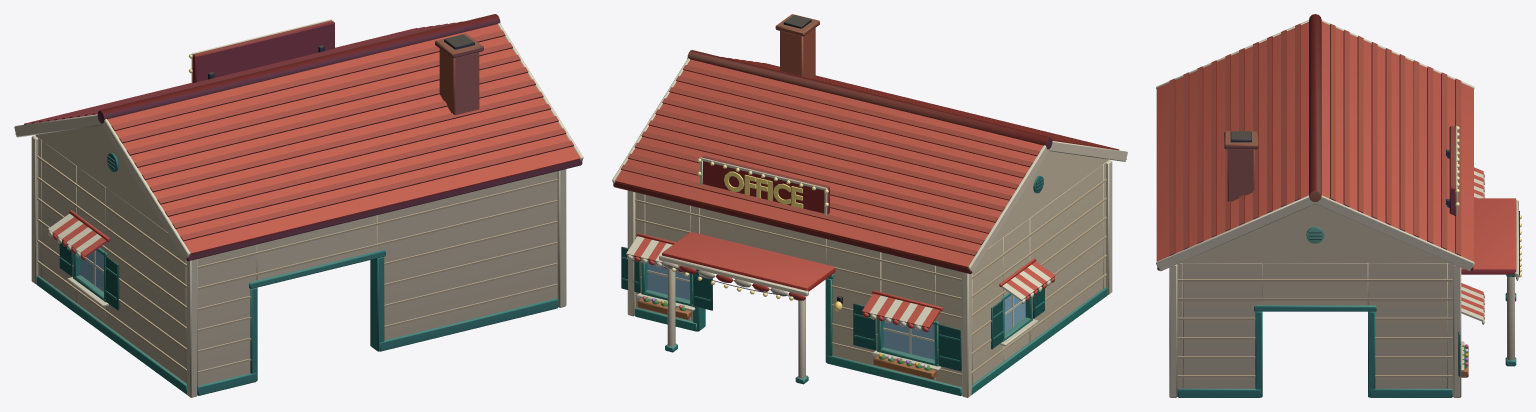
Rendered from Office.fbx.
The picture shows the model from 3 angles, left to right: view 1: azimuth 30°, elevation 25°; view 2: azimuth 150°, elevation 25°; view 3: azimuth 270°, elevation 25°; orthographic projection. The views are drawn at different scales.
Parts seen in each view (by area): view 1: SM_Bld_Office_Roof, SM_Bld_Office_Walls, SM_Bld_Office_Trim, SM_Bld_Office_Sign, SM_Bld_Office_Awning, SM_Bld_Office_Glass; view 2: SM_Bld_Office_Roof, SM_Bld_Office_Walls, SM_Bld_Office_Trim, SM_Bld_Office_Awning, SM_Bld_Office_Sign, SM_Bld_Office_Glass, SM_Bld_Office_Glow; view 3: SM_Bld_Office_Roof, SM_Bld_Office_Walls, SM_Bld_Office_Trim, SM_Bld_Office_Awning, SM_Bld_Office_Sign.
Part boxes in pixels (left/top/right/bottom): SM_Bld_Office_Roof: left=15, top=14, right=582, bottom=261; SM_Bld_Office_Walls: left=35, top=125, right=557, bottom=385; SM_Bld_Office_Trim: left=14, top=23, right=583, bottom=397; SM_Bld_Office_Sign: left=191, top=19, right=334, bottom=82; SM_Bld_Office_Awning: left=48, top=210, right=109, bottom=260; SM_Bld_Office_Glass: left=80, top=250, right=103, bottom=291; SM_Bld_Office_Roof: left=613, top=14, right=1126, bottom=273; SM_Bld_Office_Walls: left=635, top=151, right=1108, bottom=386; SM_Bld_Office_Trim: left=612, top=58, right=1127, bottom=397; SM_Bld_Office_Awning: left=626, top=232, right=1055, bottom=332; SM_Bld_Office_Sign: left=700, top=155, right=829, bottom=215; SM_Bld_Office_Glass: left=647, top=260, right=1025, bottom=359; SM_Bld_Office_Glow: left=671, top=158, right=842, bottom=311; SM_Bld_Office_Roof: left=1156, top=14, right=1473, bottom=270; SM_Bld_Office_Walls: left=1177, top=204, right=1453, bottom=396; SM_Bld_Office_Trim: left=1156, top=20, right=1519, bottom=397; SM_Bld_Office_Awning: left=1461, top=167, right=1519, bottom=324; SM_Bld_Office_Sign: left=1446, top=125, right=1457, bottom=215.
Bounding box in the file's own units: 40.78 × 24.25 × 34.6.
